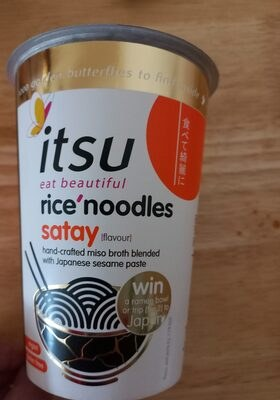Rice noodles Satay flavour: (14, 20, 266, 380)
